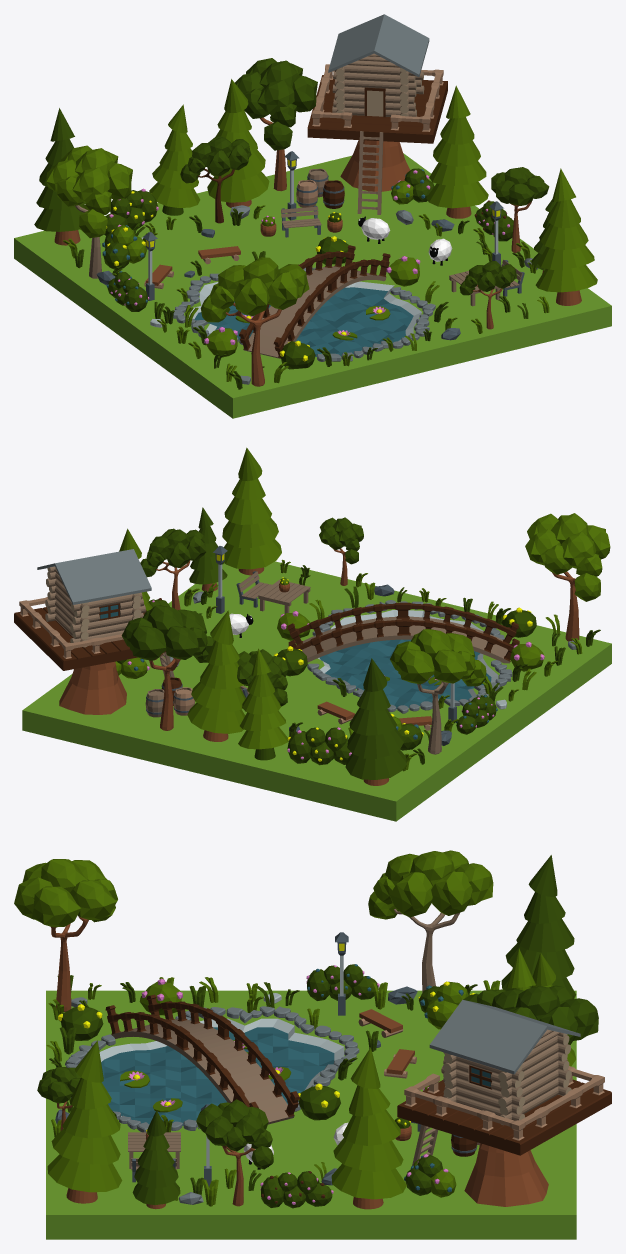
Rendered from GARDEN.fbx.
The picture shows the model from 3 angles, top to bottom: view 1: azimuth 30°, elevation 25°; view 2: azimuth 150°, elevation 25°; view 3: azimuth 270°, elevation 25°; orthographic projection. The views are drawn at different scales.
Visible parts, largest first — view 1: model_12, model_4, model_6, model_2, model_0, model_11, model_5, model_7, model_3, model_1, model_10, model_13 (+3 smaller); view 2: model_12, model_4, model_6, model_2, model_0, model_5, model_11, model_7, model_3, model_10, model_1, model_13; view 3: model_12, model_4, model_6, model_2, model_0, model_7, model_11, model_5, model_3, model_10, model_1, model_13 (+2 smaller).
Part boxes in pixels (x1,y1,x2,y2): model_12: (14, 153, 611, 418); model_4: (46, 79, 597, 383); model_6: (34, 58, 556, 389); model_2: (75, 53, 522, 358); model_0: (198, 75, 511, 357); model_11: (173, 14, 537, 384); model_5: (54, 117, 581, 386); model_7: (102, 169, 425, 356); model_3: (144, 64, 443, 288); model_1: (96, 151, 524, 340); model_10: (141, 170, 498, 354); model_13: (335, 67, 424, 116); model_12: (22, 561, 611, 821); model_4: (115, 447, 610, 771); model_6: (117, 507, 600, 779); model_2: (46, 566, 510, 754); model_0: (14, 598, 519, 705); model_5: (59, 548, 579, 785); model_11: (37, 549, 576, 713); model_7: (100, 605, 497, 739); model_3: (19, 597, 430, 730); model_10: (218, 564, 506, 709); model_1: (146, 546, 456, 745); model_13: (45, 567, 141, 647); model_12: (46, 990, 576, 1239); model_4: (14, 850, 576, 1206); model_6: (37, 855, 598, 1208); model_2: (111, 909, 569, 1170); model_0: (105, 994, 611, 1203); model_7: (101, 964, 490, 1192); model_11: (65, 997, 580, 1204); model_5: (50, 916, 548, 1209); model_3: (358, 1018, 604, 1145); model_10: (99, 955, 344, 1168); model_1: (55, 932, 477, 1187); model_13: (443, 1033, 571, 1125).
Size of the model in its own units: 24.94 by 9.18 by 24.76.
